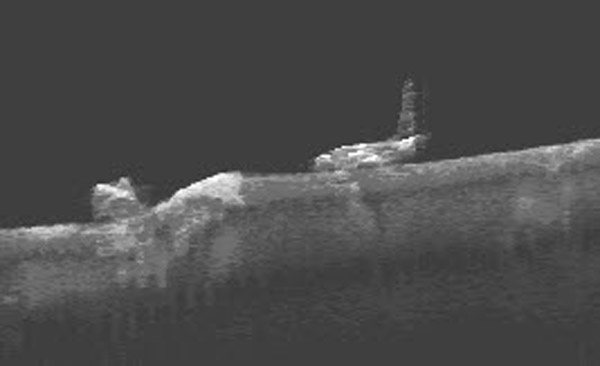plane: (311, 80, 436, 174)
